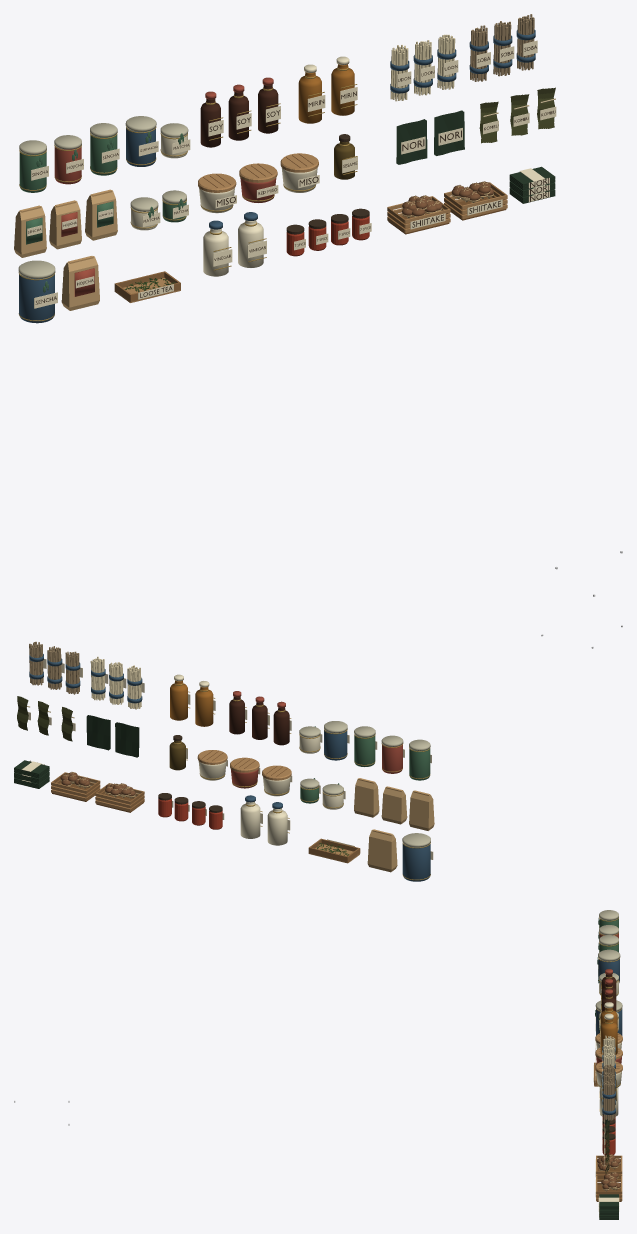
File: japan_kit28_grocer_stock1.fbx
The picture shows the model from 3 angles, top to bottom: view 1: azimuth 30°, elevation 25°; view 2: azimuth 150°, elevation 25°; view 3: azimuth 270°, elevation 25°; orthographic projection. The views are drawn at different scales.
Visible parts, largest first — view 1: GS1_TeaMid_Kraft, GS1_PantryTop_Soy, GS1_DryMid_Nori, GS1_DryTop_Soba, GS1_DryTop_Udon, GS1_TeaTop_TeaGreen, GS1_PantryTop_Amber, GS1_PantryMid_CedarLight, GS1_PantryLow_Ivory, GS1_TeaTop_Tin, GS1_DryMid_Kombu, GS1_DryTop_TeaBlue (+18 smaller); view 2: GS1_TeaMid_Kraft, GS1_PantryTop_Soy, GS1_DryMid_Nori, GS1_DryTop_Soba, GS1_DryTop_Udon, GS1_PantryLow_Ivory, GS1_PantryTop_Amber, GS1_TeaTop_TeaGreen, GS1_PantryMid_CedarLight, GS1_TeaTop_Tin, GS1_TeaLow_Kraft, GS1_DryMid_Kombu (+16 smaller); view 3: GS1_TeaTop_Tin, GS1_DryTop_Soba, GS1_PantryTop_Amber, GS1_DryLow_Mushroom, GS1_DryLow_Nori.
Boxes of the visible parts, x1,y1,x2,y2 form: GS1_TeaMid_Kraft: (14,190,117,257); GS1_PantryTop_Soy: (200,84,278,147); GS1_DryMid_Nori: (396,110,464,164); GS1_DryTop_Soba: (470,14,534,81); GS1_DryTop_Udon: (390,34,455,101); GS1_TeaTop_TeaGreen: (19,131,183,192); GS1_PantryTop_Amber: (298,64,354,123); GS1_PantryMid_CedarLight: (198,153,318,192); GS1_PantryLow_Ivory: (203,220,263,276); GS1_TeaTop_Tin: (19,116,188,154); GS1_DryMid_Kombu: (479,87,555,143); GS1_DryTop_TeaBlue: (390,29,535,93); GS1_TeaMid_Kraft: (354,778,434,830); GS1_PantryTop_Soy: (229,696,289,745); GS1_DryMid_Nori: (86,715,139,757); GS1_DryTop_Soba: (29,641,79,694); GS1_DryTop_Udon: (90,656,141,709); GS1_PantryLow_Ivory: (240,801,287,845); GS1_PantryTop_Amber: (170,680,213,726); GS1_TeaTop_TeaGreen: (314,726,430,780); GS1_PantryMid_CedarLight: (197,750,291,780); GS1_TeaTop_Tin: (299,721,430,750); GS1_TeaLow_Kraft: (367,829,397,872); GS1_DryMid_Kombu: (17,696,72,741); GS1_TeaTop_Tin: (598,910,620,981); GS1_DryTop_Soba: (603,1064,615,1120); GS1_PantryTop_Amber: (600,1007,617,1054); GS1_DryLow_Mushroom: (597,1154,620,1189); GS1_DryLow_Nori: (599,1194,618,1219).
Bounding box in the file's own units: 16.45 × 5.81 × 22.39.
